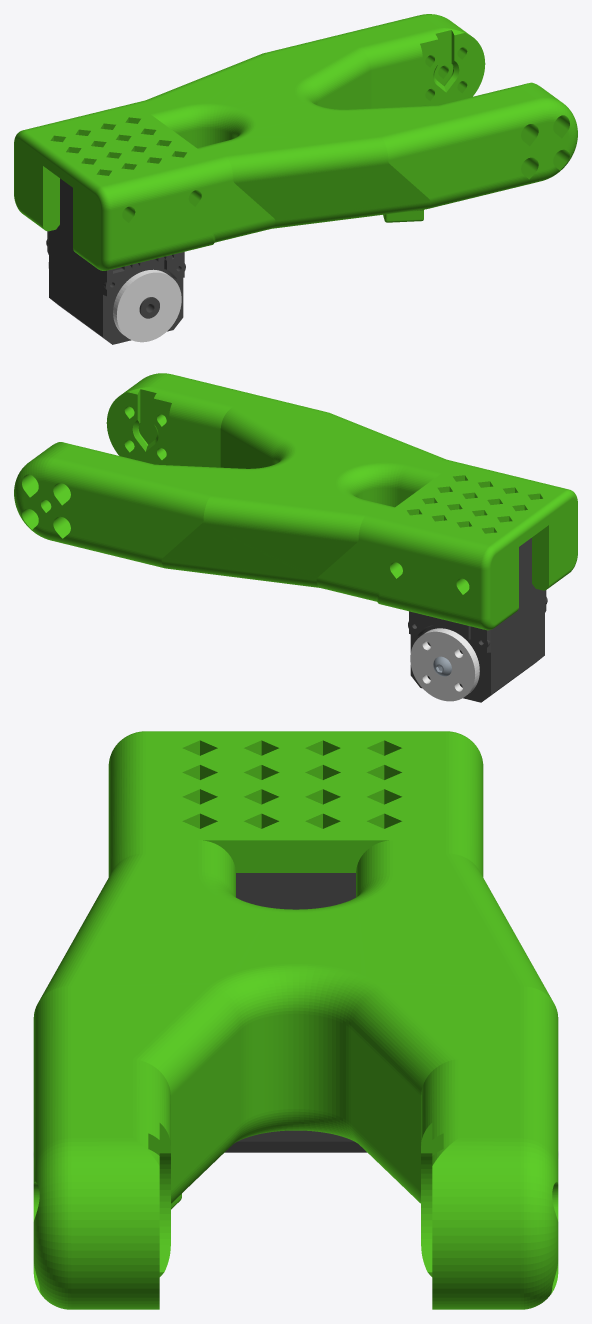
The model's file is arm1_link1.obj.
The picture shows the model from 3 angles, top to bottom: view 1: azimuth 30°, elevation 25°; view 2: azimuth 150°, elevation 25°; view 3: azimuth 270°, elevation 25°; orthographic projection. The views are drawn at different scales.
Parts seen in each view (by area): view 1: arm1_link1_so_arm100_08k_116_square_15, arm1_link1_sts3215_servo_18, arm1_link1_passive_horn_16; view 2: arm1_link1_so_arm100_08k_116_square_15, arm1_link1_sts3215_servo_18, arm1_link1_driven_horn_19; view 3: arm1_link1_so_arm100_08k_116_square_15, arm1_link1_sts3215_servo_18.
Boxes of the visible parts, box(x1,y1,x2,y2) form: arm1_link1_so_arm100_08k_116_square_15: box(14, 14, 577, 270); arm1_link1_sts3215_servo_18: box(46, 178, 185, 344); arm1_link1_passive_horn_16: box(113, 269, 181, 342); arm1_link1_so_arm100_08k_116_square_15: box(14, 373, 577, 630); arm1_link1_sts3215_servo_18: box(408, 538, 547, 702); arm1_link1_driven_horn_19: box(410, 628, 479, 701); arm1_link1_so_arm100_08k_116_square_15: box(33, 731, 558, 1309); arm1_link1_sts3215_servo_18: box(225, 873, 366, 1152).
Size of the model in its own units: 0.1422 by 0.0502 by 0.07.
